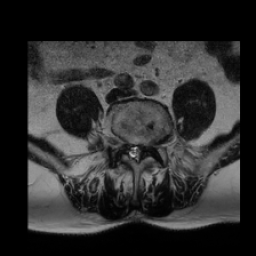CCS_normal: (132, 142, 139, 166)
LFS_severe_stenosis: (146, 142, 150, 157)
LLS_severe_stenosis: (139, 143, 145, 159)
RFS_normal: (122, 138, 129, 156)
RLS_normal: (128, 143, 133, 160)
